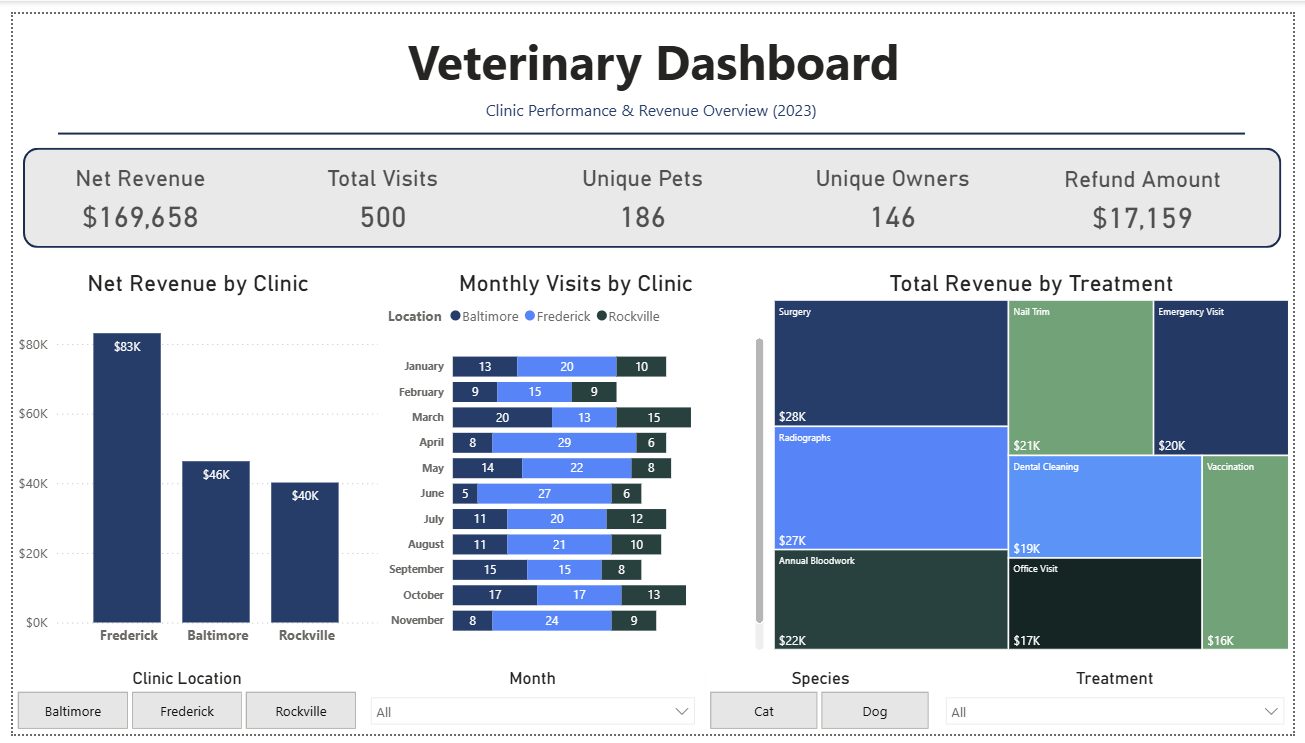

This screenshot's page, from the dashboard's own definition file:
{"tool":"powerbi","page":{"name":"Page 1","canvas":[1280,720],"ordinal":0},"visuals":[{"type":"card","title":"Net Revenue","fields":{"Values":["Measures_Table.Net Revenue"]},"box":[10.4,140.3,235.1,84.4],"z":0},{"type":"card","title":"Total Visits","fields":{"Values":["Measures_Table.Total Visits"]},"box":[245.5,140.3,249.4,84.4],"z":1000},{"type":"card","title":"Unique Pets","fields":{"Values":["Measures_Table.Unique Pets"]},"box":[505.2,140.3,249.4,84.4],"z":2000},{"type":"card","title":"Unique Owners","fields":{"Values":["Measures_Table.Unique Owners"]},"box":[754.5,140.3,249.4,84.4],"z":3000},{"type":"card","title":"Refund Amount","fields":{"Values":["Measures_Table.Refund Amount"]},"box":[1005.2,141.6,249.4,84.4],"z":4000},{"type":"clusteredColumnChart","title":"Net Revenue by Clinic","fields":{"Category":["Dim_Clinic.Clinic_Location"],"Y":["Measures_Table.Net Revenue"]},"box":[0,254.5,370.1,385.7],"z":5000},{"type":"barChart","title":"Monthly Visits by Clinic","fields":{"Category":["Dim_Date.Month Name"],"Y":["Measures_Table.Total Visits"],"Series":["Dim_Clinic.Clinic_Location"]},"box":[370.1,254.5,385.7,385.7],"z":6000},{"type":"treemap","title":"Total Revenue by Treatment","fields":{"Group":["Dim_Treatment.Treatment_Name"],"Values":["Measures_Table.Net Revenue"]},"box":[755.8,254.5,524.7,385.7],"z":7000},{"type":"textbox","box":[180,8.8,921.2,76.2],"z":8000},{"type":"shape","box":[45.5,97.4,1187,44.2],"z":9000},{"type":"shape","box":[9.8,133.3,1258.3,100.3],"z":10000},{"type":"advancedSlicerVisual","title":"Clinic Location","fields":{"Values":["Dim_Clinic.Clinic_Location"]},"box":[0,653.2,348.1,66.2],"z":11000},{"type":"advancedSlicerVisual","title":"Species","fields":{"Values":["Dim_Pet.Species"]},"box":[692.2,653.2,229.9,66.2],"z":12000},{"type":"slicer","title":"Month","fields":{"Values":["Dim_Date.Month Name"]},"box":[348.1,653.2,344.2,66.2],"z":13000},{"type":"slicer","title":"Treatment","fields":{"Values":["Dim_Treatment.Treatment_Name"]},"box":[922.1,653.2,358.4,66.2],"z":14000},{"type":"textbox","box":[460,80,356.2,33.8],"z":15000}]}

Visuals, with their boxes in screenshot pixels (x1, y1, x2, y2), scaled from the page's 1280x720 canvas onto the 1305x743 screenshot:
"Net Revenue" card: box=[11, 145, 250, 232]
"Total Visits" card: box=[250, 145, 505, 232]
"Unique Pets" card: box=[515, 145, 769, 232]
"Unique Owners" card: box=[769, 145, 1024, 232]
"Refund Amount" card: box=[1025, 146, 1279, 233]
"Net Revenue by Clinic" clusteredColumnChart: box=[0, 263, 377, 661]
"Monthly Visits by Clinic" barChart: box=[377, 263, 771, 661]
"Total Revenue by Treatment" treemap: box=[771, 263, 1304, 661]
textbox: box=[184, 9, 1123, 88]
shape: box=[46, 101, 1257, 146]
shape: box=[10, 138, 1293, 241]
"Clinic Location" advancedSlicerVisual: box=[0, 674, 355, 742]
"Species" advancedSlicerVisual: box=[706, 674, 940, 742]
"Month" slicer: box=[355, 674, 706, 742]
"Treatment" slicer: box=[940, 674, 1304, 742]
textbox: box=[469, 83, 832, 117]
